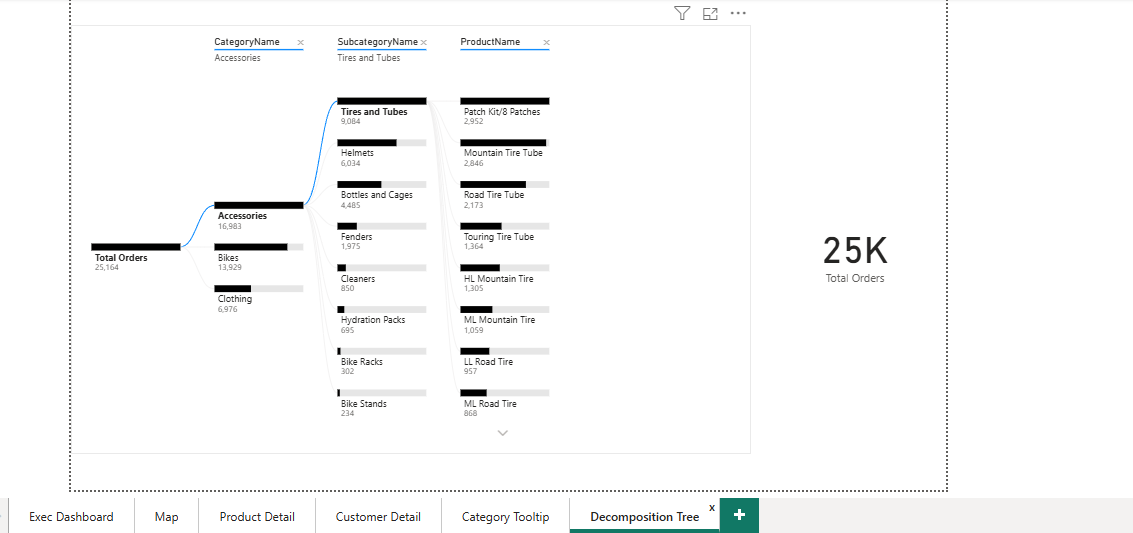

The page's visual inventory and layout, read from the dashboard file:
{"tool":"powerbi","page":{"name":"Decomposition Tree","canvas":[1280,720],"ordinal":5},"visuals":[{"type":"decompositionTreeVisual","fields":{"Analyze":["Measure Table.Total Orders"]},"box":[1106.3,589.8,143.4,96.6],"z":0},{"type":"decompositionTreeVisual","fields":{"Analyze":["Measure Table.Total Orders"],"ExplainBy":["Product Categories Lookup.CategoryName","Product Subcategories Lookup.SubcategoryName","Product Lookup.ProductName"]},"box":[0,39.5,995.1,627.8],"z":1000},{"type":"card","fields":{"Values":["Measure Table.Total Orders"]},"box":[1028.8,153.7,237.1,436.1],"z":2000}]}

Visuals, with their boxes on the page's 1280x720 design canvas (x1, y1, x2, y2). These are canvas units, not pixel positions in the 1133x533 screenshot, which may show the page scaled, cropped or inside an application window:
decompositionTreeVisual - Measure Table.Total Orders: <bbox>1106, 590, 1250, 686</bbox>
decompositionTreeVisual - Measure Table.Total Orders x Product Categories Lookup.CategoryName: <bbox>0, 40, 995, 667</bbox>
card - Measure Table.Total Orders: <bbox>1029, 154, 1266, 590</bbox>
